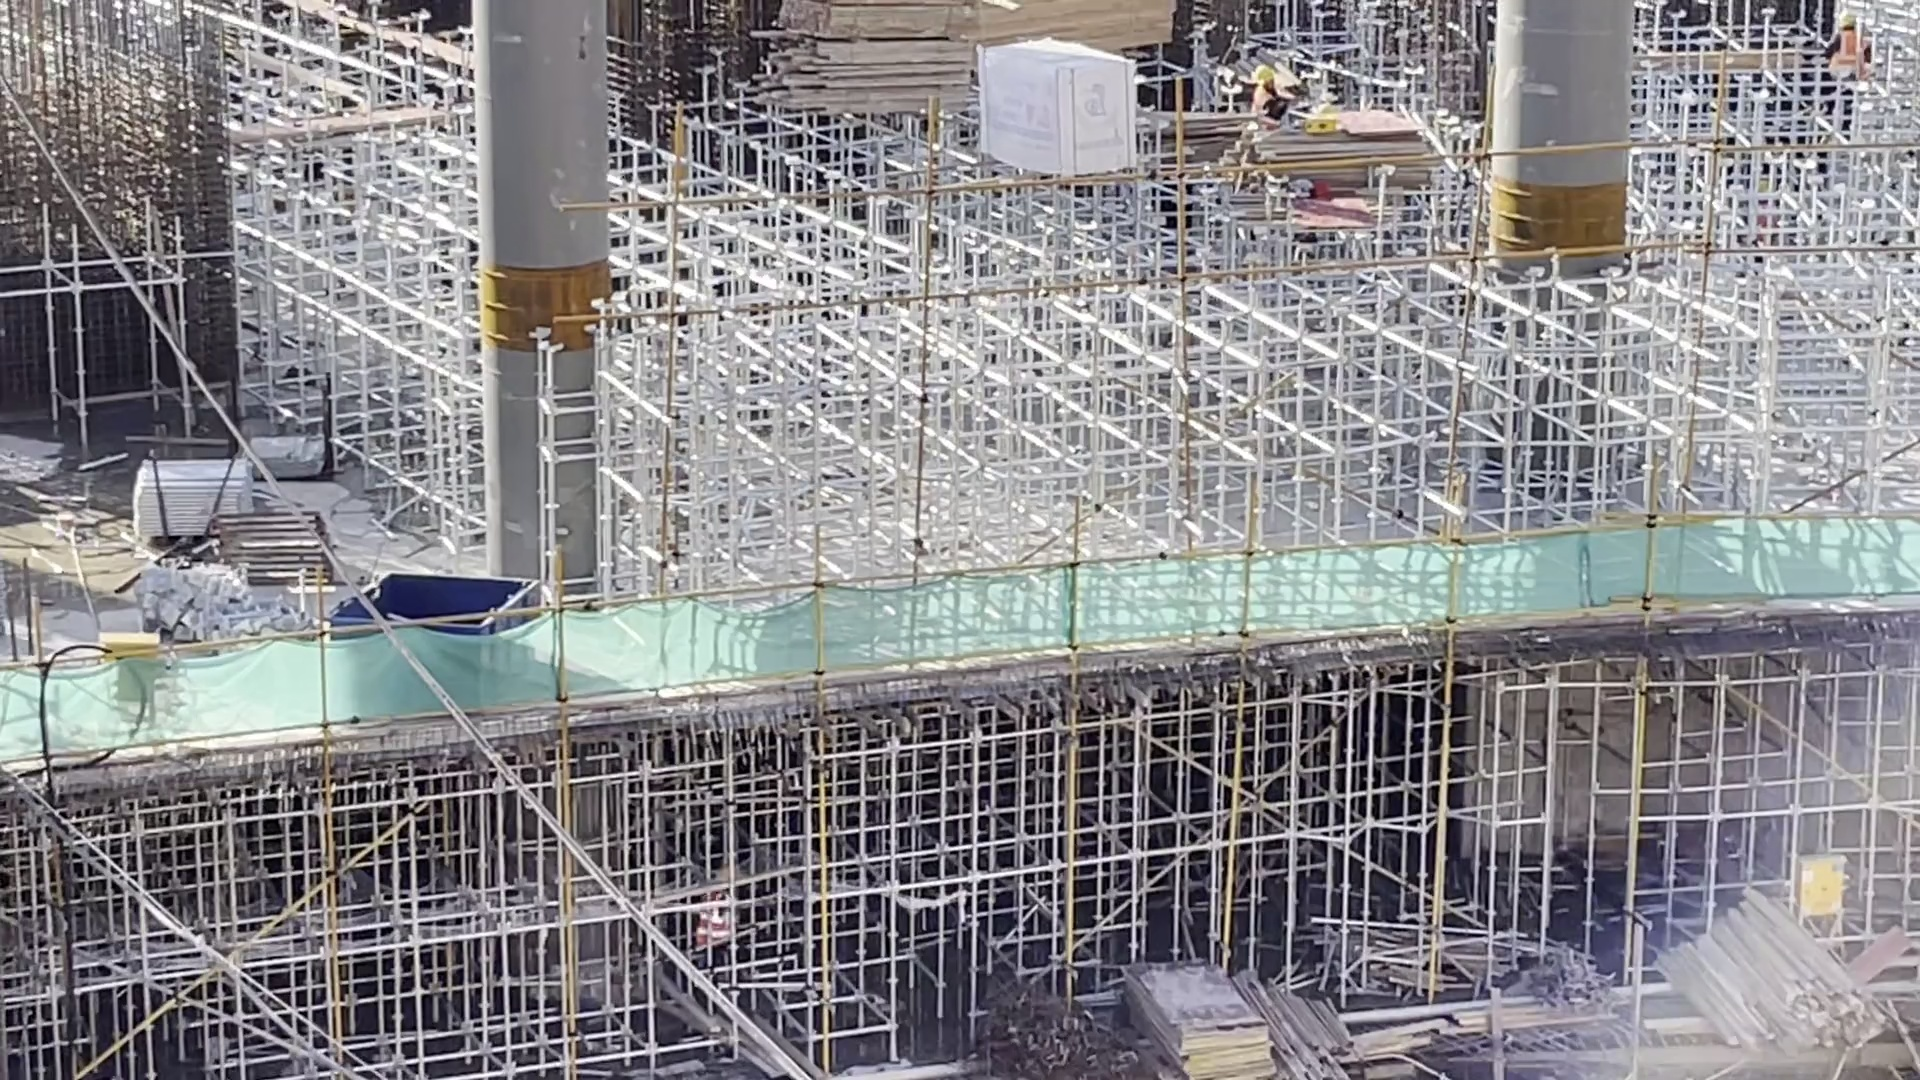board: (1118, 952, 1284, 1080), (1247, 106, 1440, 200)
ebox: (1782, 846, 1850, 934), (95, 626, 163, 654)
helmet: (1254, 64, 1277, 85)
hopper: (324, 567, 547, 619)
person: (1249, 64, 1287, 133)
scaffold: (130, 452, 258, 515)
vest: (1252, 87, 1280, 129)
wood: (1652, 883, 1888, 1056), (745, 1, 975, 124), (973, 4, 1177, 49), (1277, 976, 1357, 1080)
